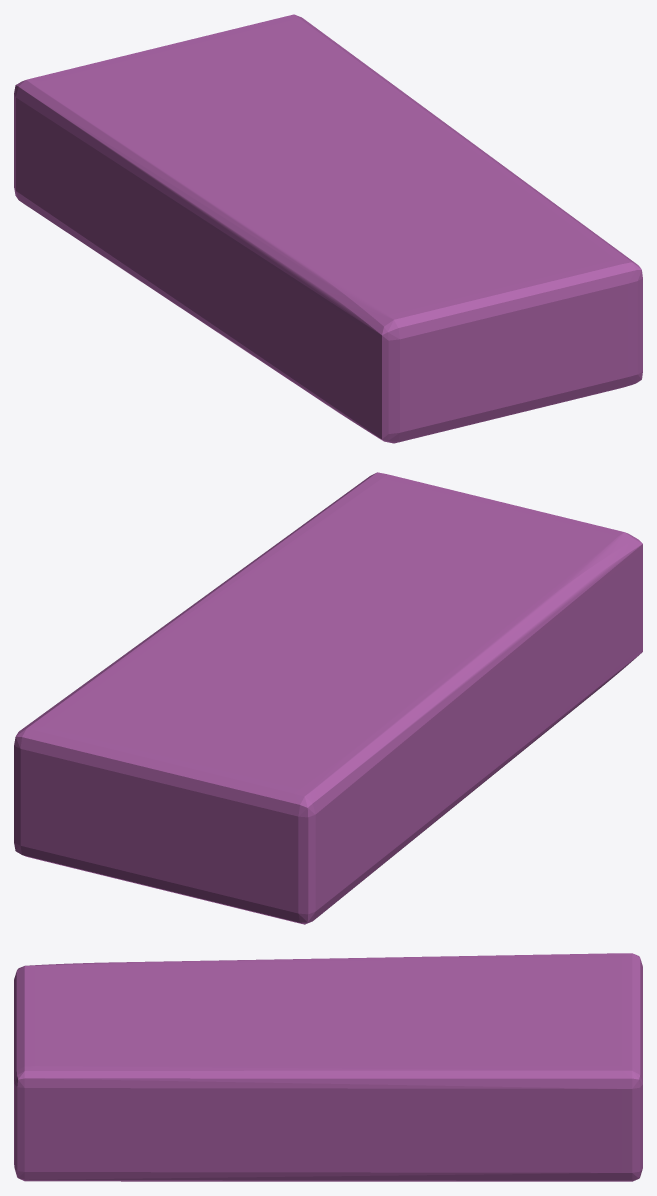
The model's file is left_knee_link_part_7.obj.
3 views of the same model, one above another, from view 1: azimuth 30°, elevation 25°; view 2: azimuth 150°, elevation 25°; view 3: azimuth 270°, elevation 25° (orthographic). The views are drawn at different scales.
Size of the model in its own units: 0.0561 by 0.023 by 0.1176.
